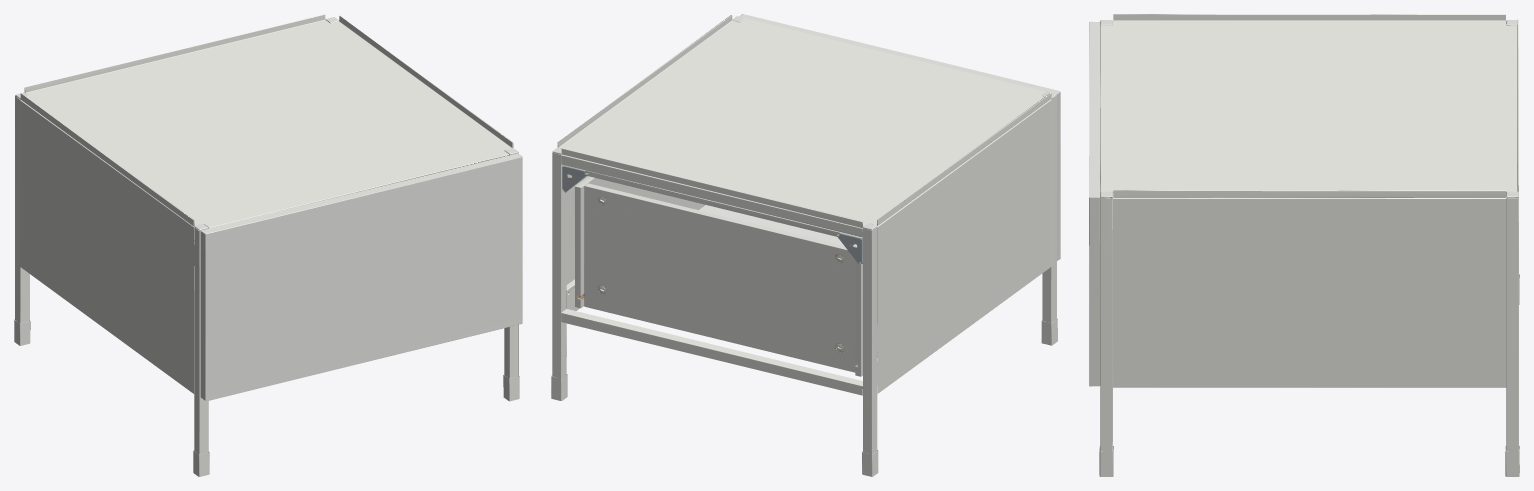
Rendered from enhet_podstawa_pod_pralke_suszarke_30622984.glb.
3 views of the same model, side by side, from view 1: azimuth 30°, elevation 25°; view 2: azimuth 150°, elevation 25°; view 3: azimuth 270°, elevation 25° (orthographic). The views are drawn at different scales.
Parts seen in each view (by area): view 1: enhet_podstawa_pod_pralke_suszarke_30622984; view 2: enhet_podstawa_pod_pralke_suszarke_30622984; view 3: enhet_podstawa_pod_pralke_suszarke_30622984.
Part boxes in pixels (box(x1,y1,x2,y2)): enhet_podstawa_pod_pralke_suszarke_30622984: box(14, 14, 522, 476); enhet_podstawa_pod_pralke_suszarke_30622984: box(551, 14, 1060, 476); enhet_podstawa_pod_pralke_suszarke_30622984: box(1089, 14, 1519, 476).
Bounding box in the file's own units: 0.6026 × 0.4523 × 0.6173.
1 material, 1 textured.
